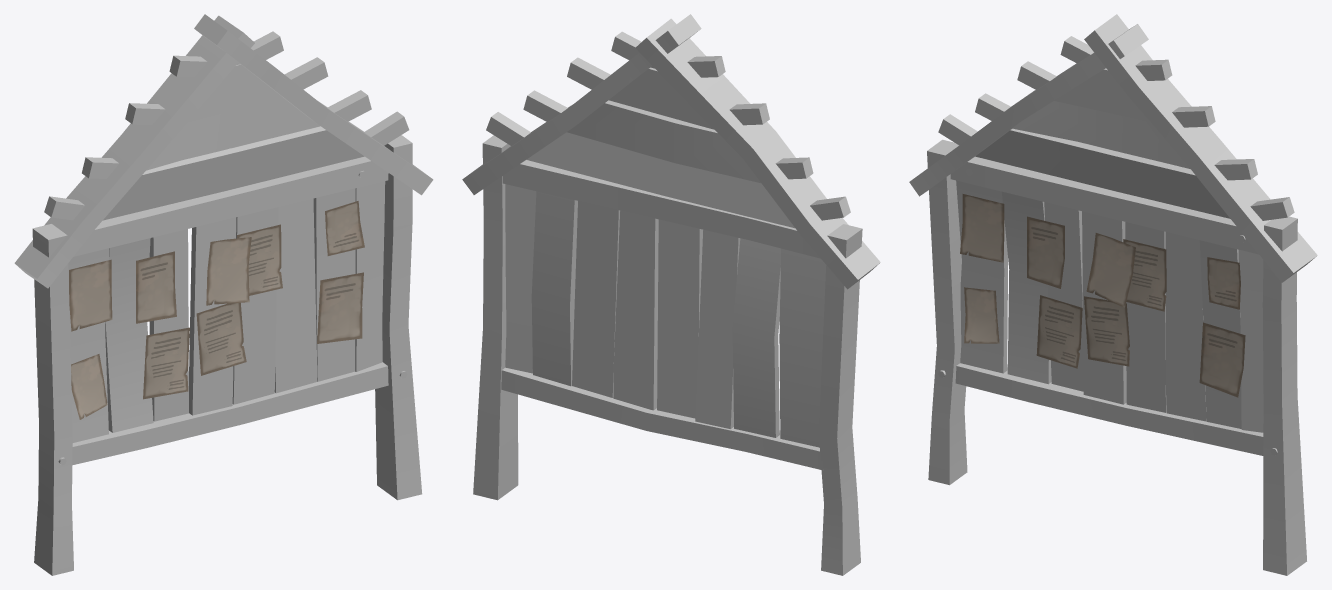
File: O_WoodJobBoard.fbx
3 views of the same model, side by side, from view 1: azimuth 30°, elevation 25°; view 2: azimuth 150°, elevation 25°; view 3: azimuth 330°, elevation 25° (orthographic). The views are drawn at different scales.
Visible parts, largest first — view 1: O_WoodJobBoard, O_WoodJobBoard_Papers; view 2: O_WoodJobBoard; view 3: O_WoodJobBoard, O_WoodJobBoard_Papers.
Part boxes in pixels (x1,y1,x2,y2): O_WoodJobBoard: (14, 14, 433, 575); O_WoodJobBoard_Papers: (69, 201, 364, 419); O_WoodJobBoard: (462, 14, 880, 575); O_WoodJobBoard: (909, 14, 1317, 575); O_WoodJobBoard_Papers: (960, 194, 1245, 397).
Size of the model in its own units: 212 by 263 by 26.07.
